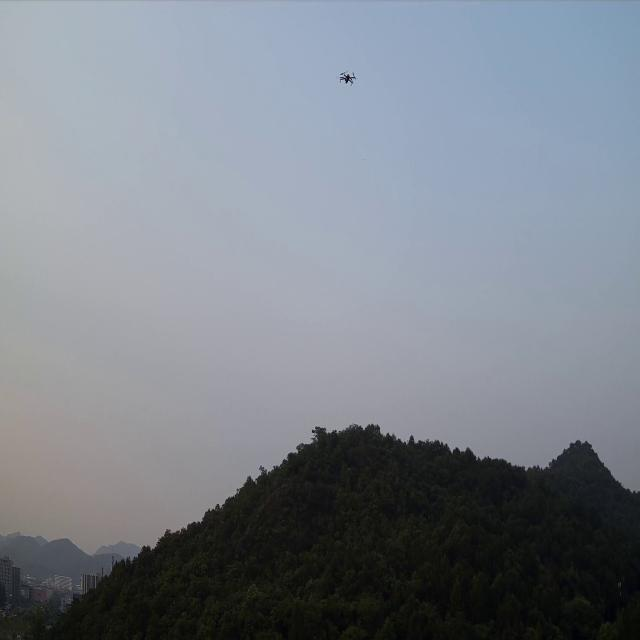UAV: (337, 71, 357, 86)
